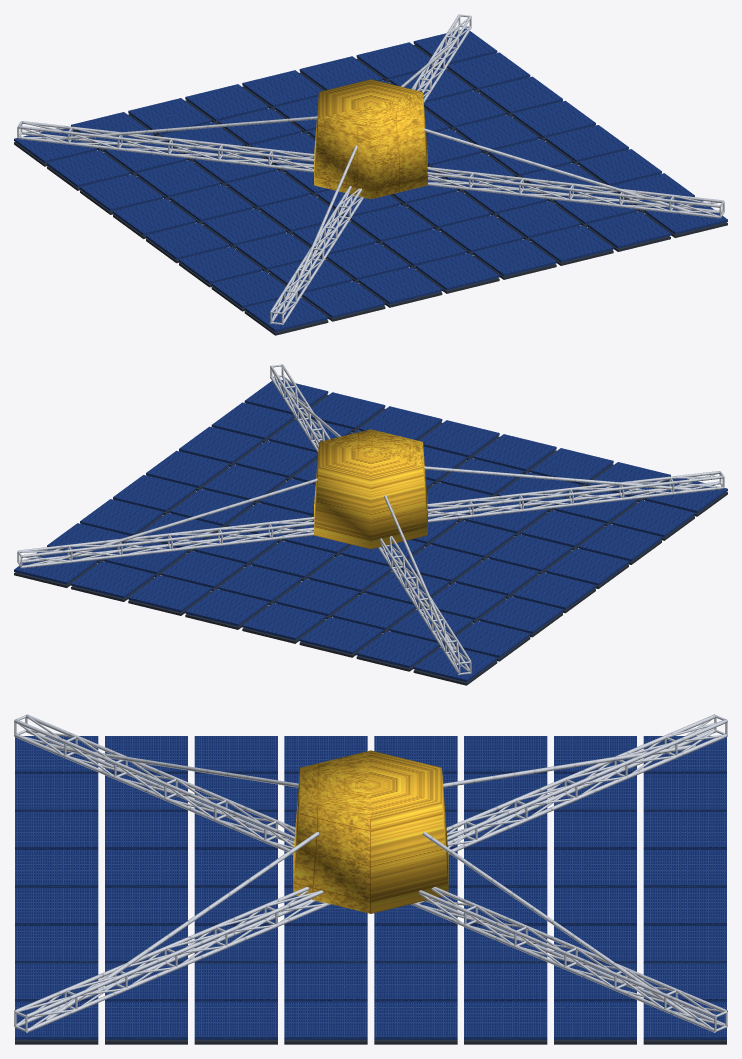
The model's file is sc_ast_bluebird.glb.
3 views of the same model, one above another, from view 1: azimuth 30°, elevation 25°; view 2: azimuth 150°, elevation 25°; view 3: azimuth 270°, elevation 25° (orthographic). The views are drawn at different scales.
Parts seen in each view (by area): view 1: ast_micron_solar_top, ast_deployment_trusses, ast_controlsat_bus, ast_micron_rf_nadir; view 2: ast_micron_solar_top, ast_deployment_trusses, ast_controlsat_bus, ast_micron_rf_nadir; view 3: ast_micron_solar_top, ast_deployment_trusses, ast_controlsat_bus, ast_micron_rf_nadir.
Boxes of the visible parts, bbox=[...] form: ast_micron_solar_top: bbox=[14, 28, 727, 331]; ast_deployment_trusses: bbox=[17, 14, 724, 324]; ast_controlsat_bus: bbox=[314, 79, 427, 199]; ast_micron_rf_nadir: bbox=[14, 44, 727, 335]; ast_micron_solar_top: bbox=[14, 378, 727, 681]; ast_deployment_trusses: bbox=[17, 364, 724, 674]; ast_controlsat_bus: bbox=[314, 429, 427, 549]; ast_micron_rf_nadir: bbox=[14, 394, 727, 685]; ast_micron_solar_top: bbox=[15, 736, 726, 1039]; ast_deployment_trusses: bbox=[14, 714, 727, 1032]; ast_controlsat_bus: bbox=[293, 750, 448, 913]; ast_micron_rf_nadir: bbox=[15, 1040, 726, 1044].
Size of the model in its own units: 1.41 by 0.2377 by 1.41.
Materials: 4 (4 with a texture image).
